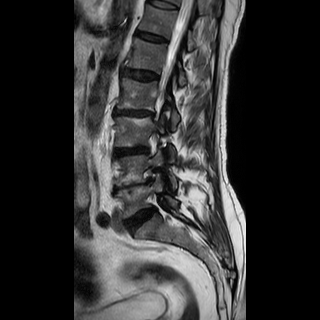LFS0: (138, 128, 164, 161)
LFS3: (137, 164, 163, 194)
